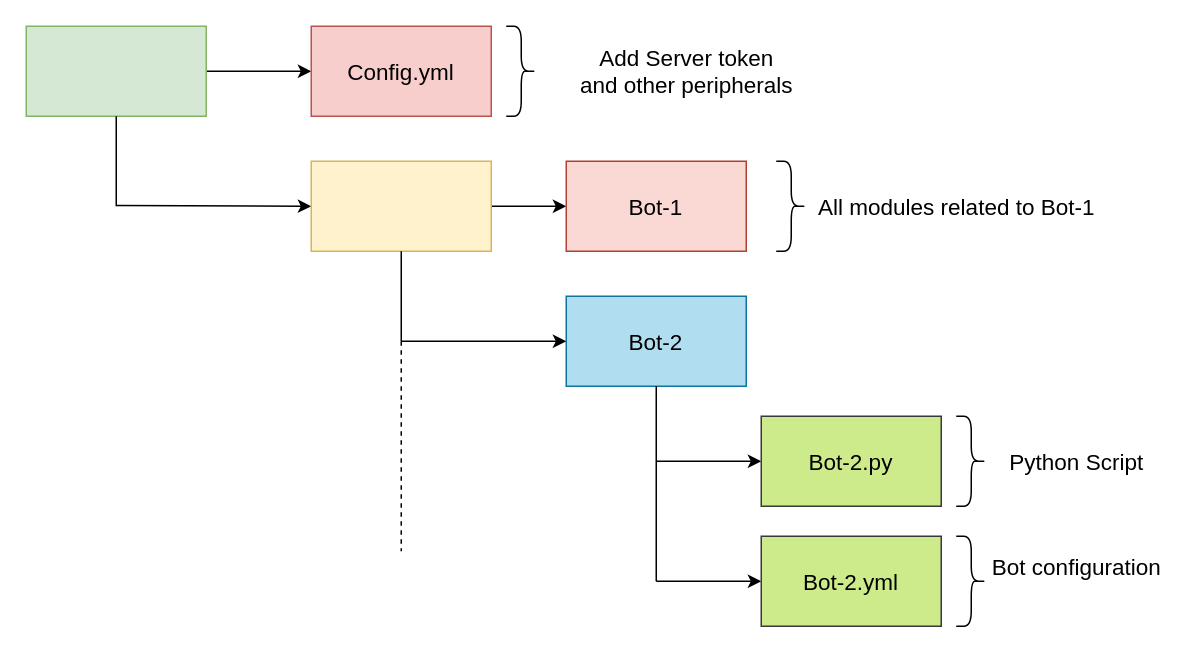
Some shapes in this 1200 by 653 pixel diagram are drawn without their labels. Each missing label, with the box of its shape:
Bots: (310, 160, 491, 251)
Root: (25, 25, 206, 116)
